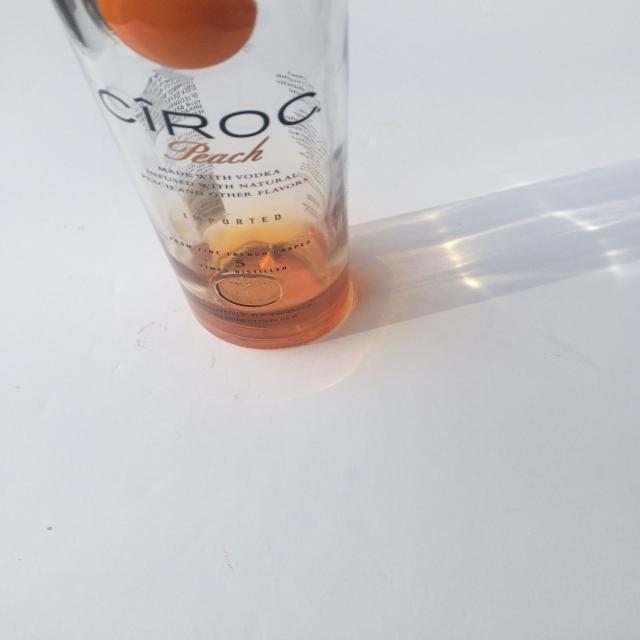glass: (42, 0, 356, 350)
